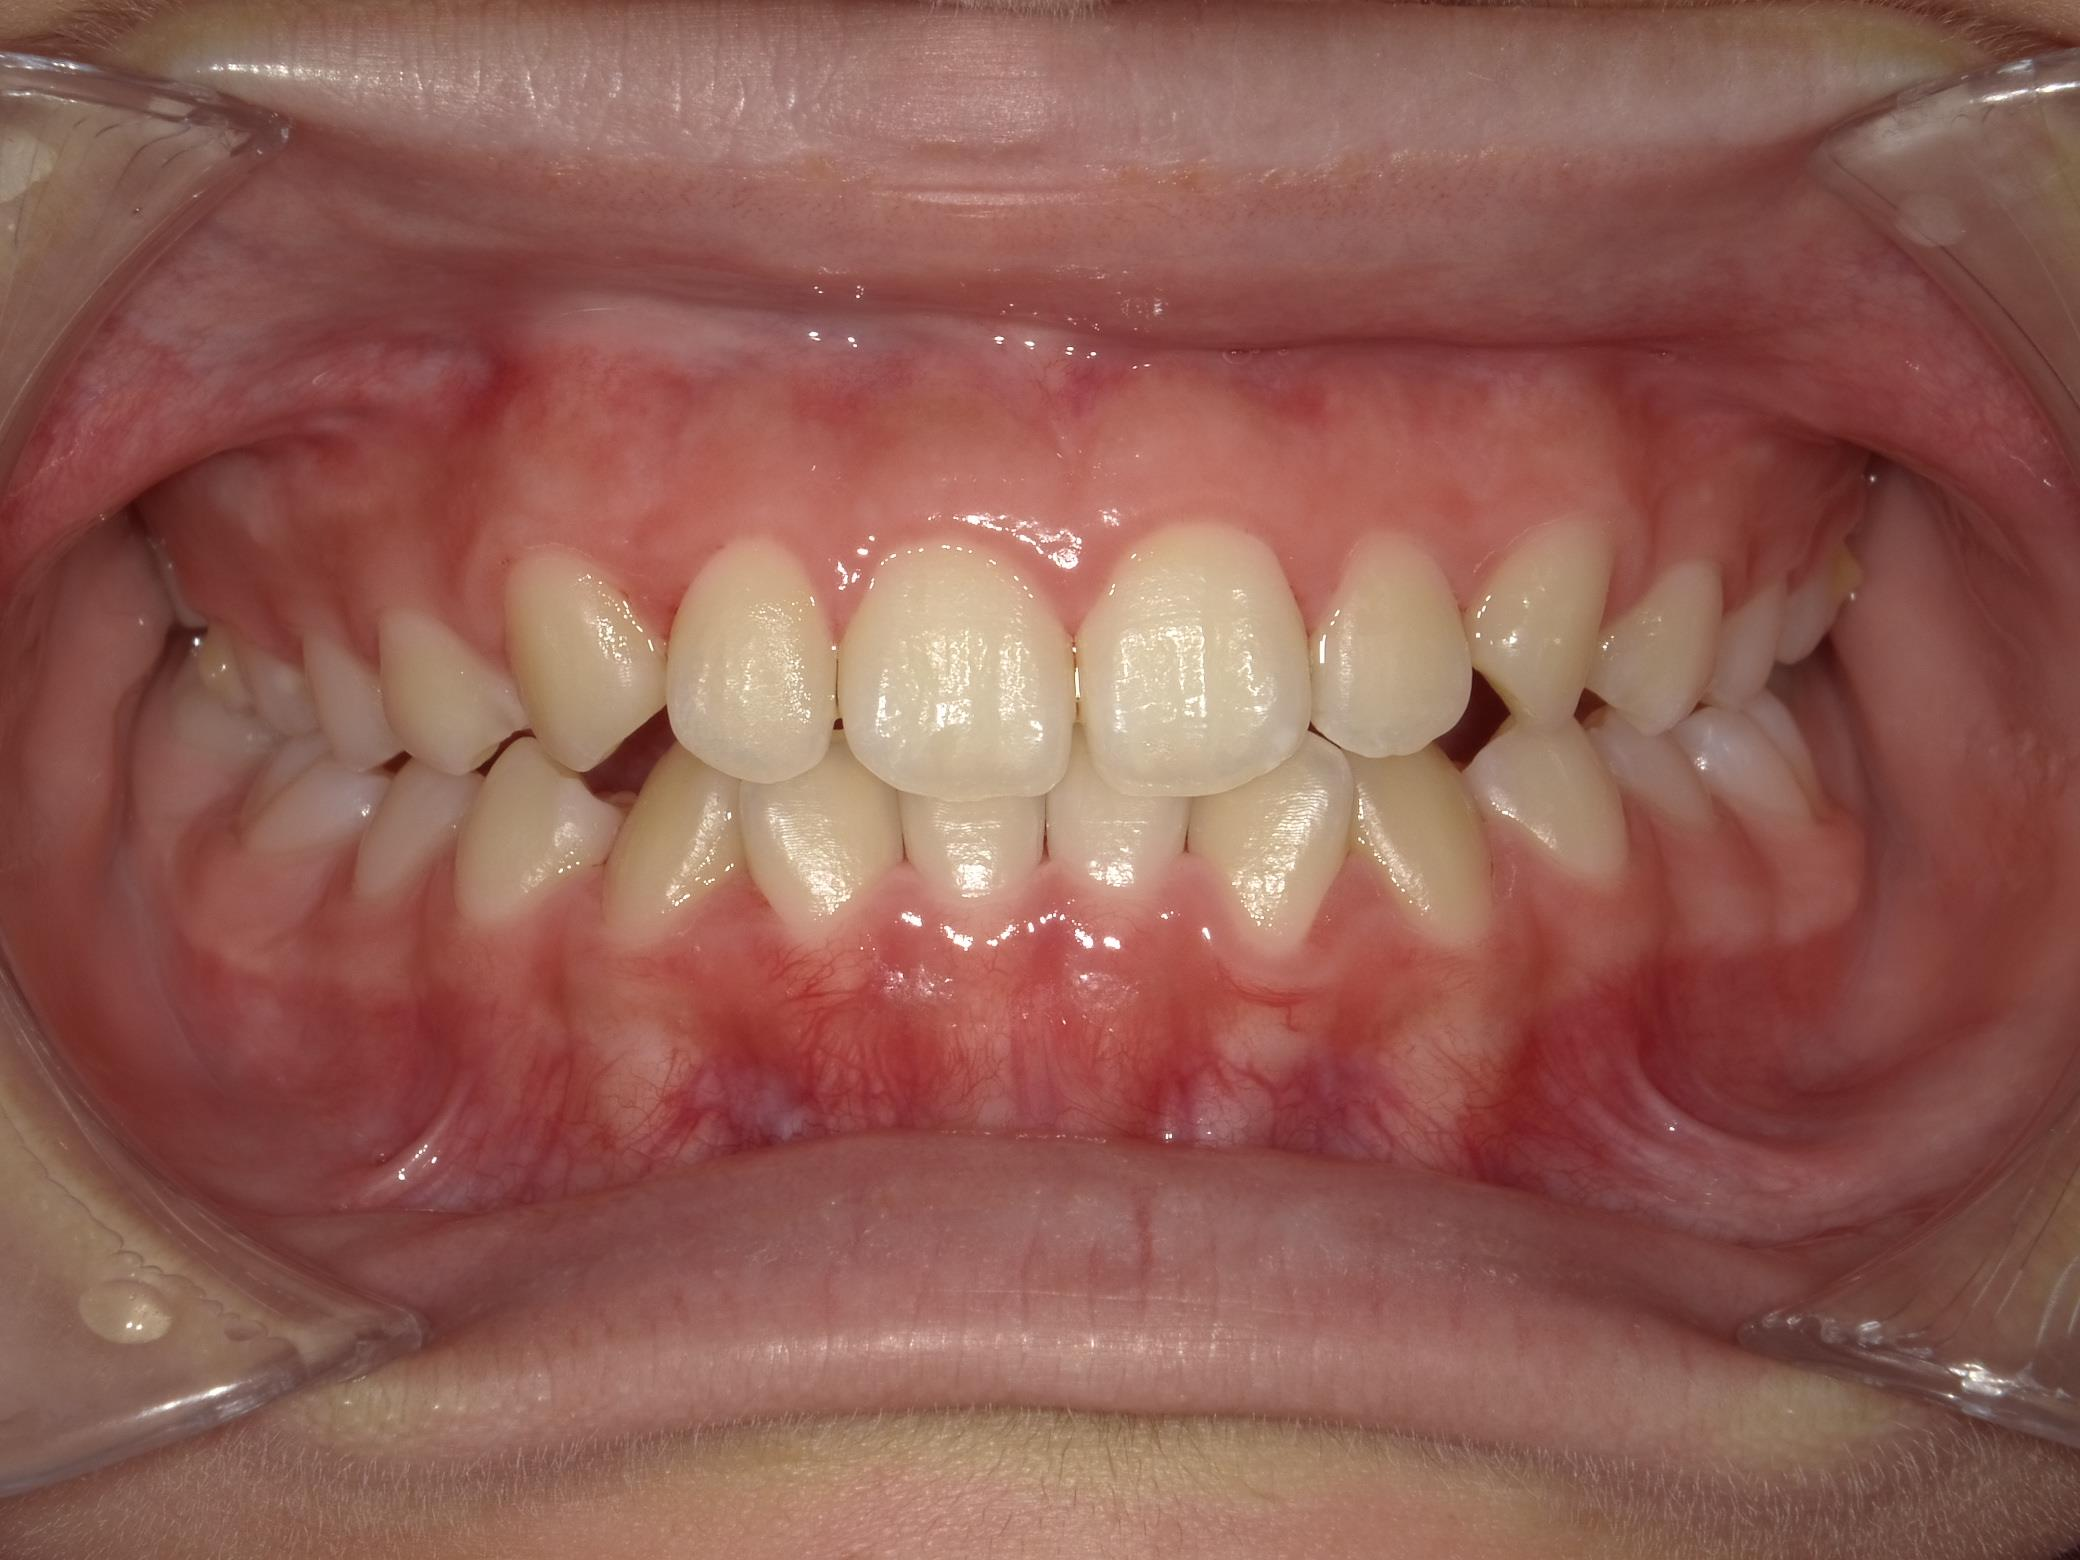UL1BC_healthy: (1607, 551, 1726, 746)
UL2BC_healthy: (1726, 552, 1797, 713)
ULCI_healthy: (1069, 523, 1322, 800)
ULC_healthy: (1463, 511, 1607, 723)
ULLI_healthy: (1320, 523, 1479, 755)
UR1BC_healthy: (375, 616, 540, 782)
UR2BC_healthy: (295, 606, 388, 783)
URCI_healthy: (832, 523, 1069, 814)
URC_healthy: (508, 547, 675, 780)
URLI_healthy: (663, 534, 832, 796)
